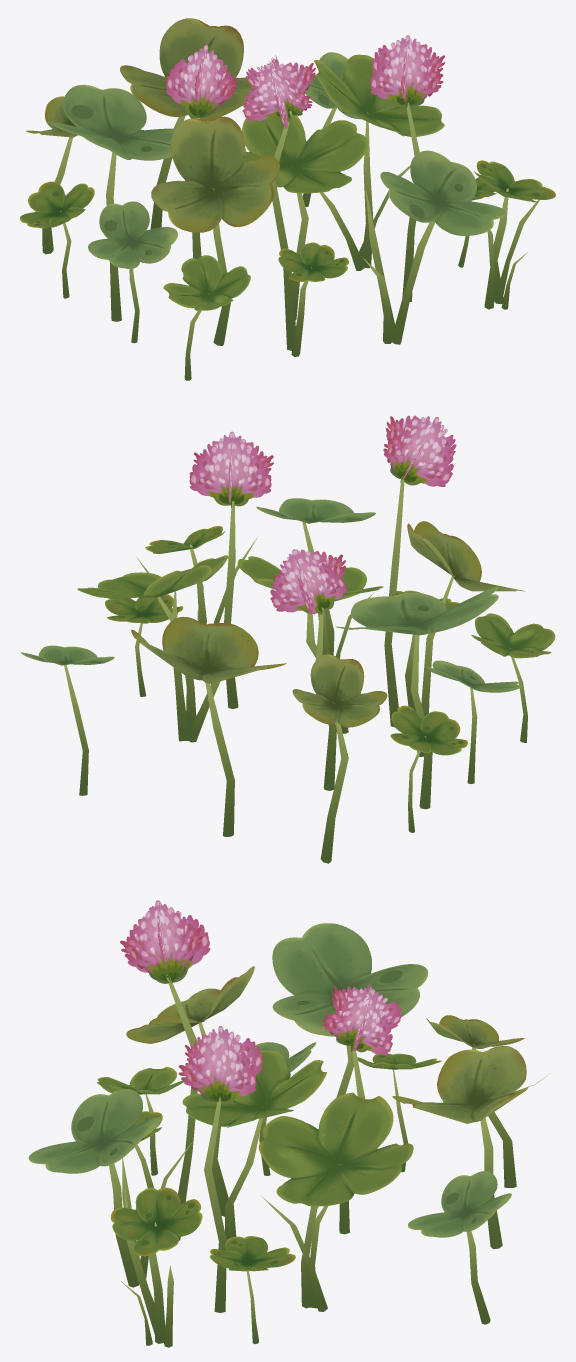
Rendered from cloverFlower_1.fbx.
3 views of the same model, one above another, from view 1: azimuth 30°, elevation 25°; view 2: azimuth 150°, elevation 25°; view 3: azimuth 270°, elevation 25° (orthographic). The views are drawn at different scales.
Visible parts, largest first — view 1: cloverFlower_1_low; view 2: cloverFlower_1_low; view 3: cloverFlower_1_low.
Boxes of the visible parts, x1,y1,x2,y2 form: cloverFlower_1_low: (20,18,555,380); cloverFlower_1_low: (21,415,555,863); cloverFlower_1_low: (28,900,550,1347).
Size of the model in its own units: 116 by 78.1 by 118.
